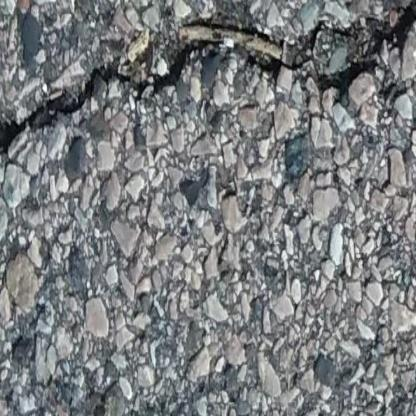Cracks: (0, 0, 416, 157)
